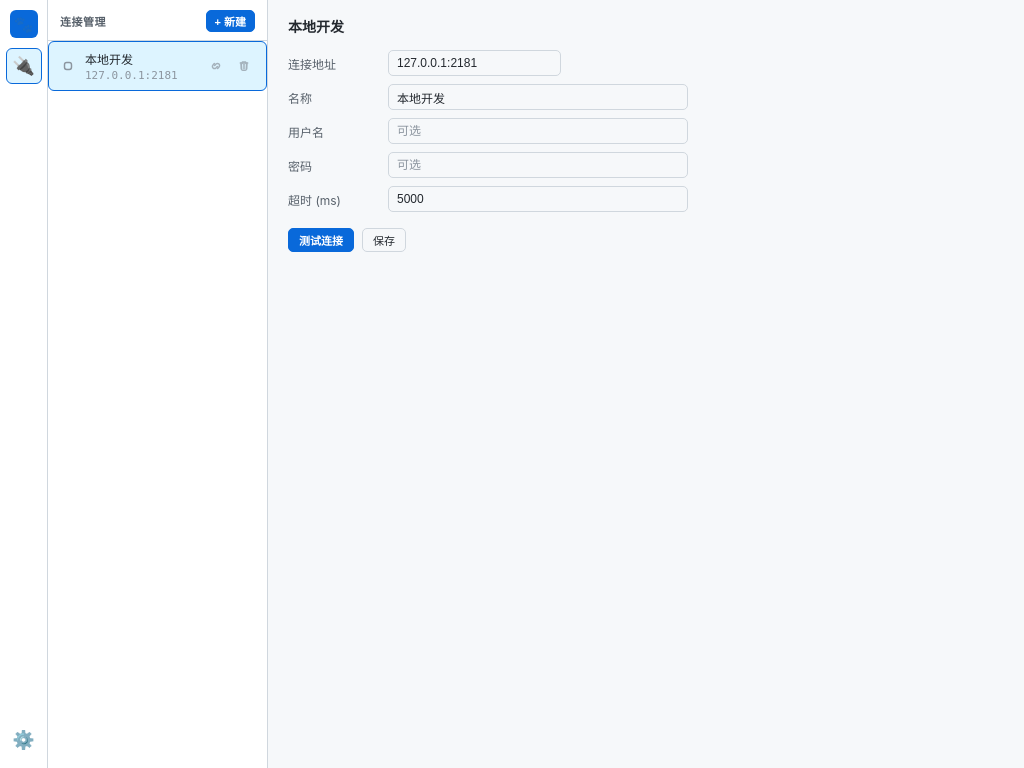
Scenario: opens the settings panel from the ribbon button with readonly selected by default
Click the button with class "ribbon-btn" showing "⚙️" at {"x": 24, "y": 740}, box [6, 722, 42, 758]
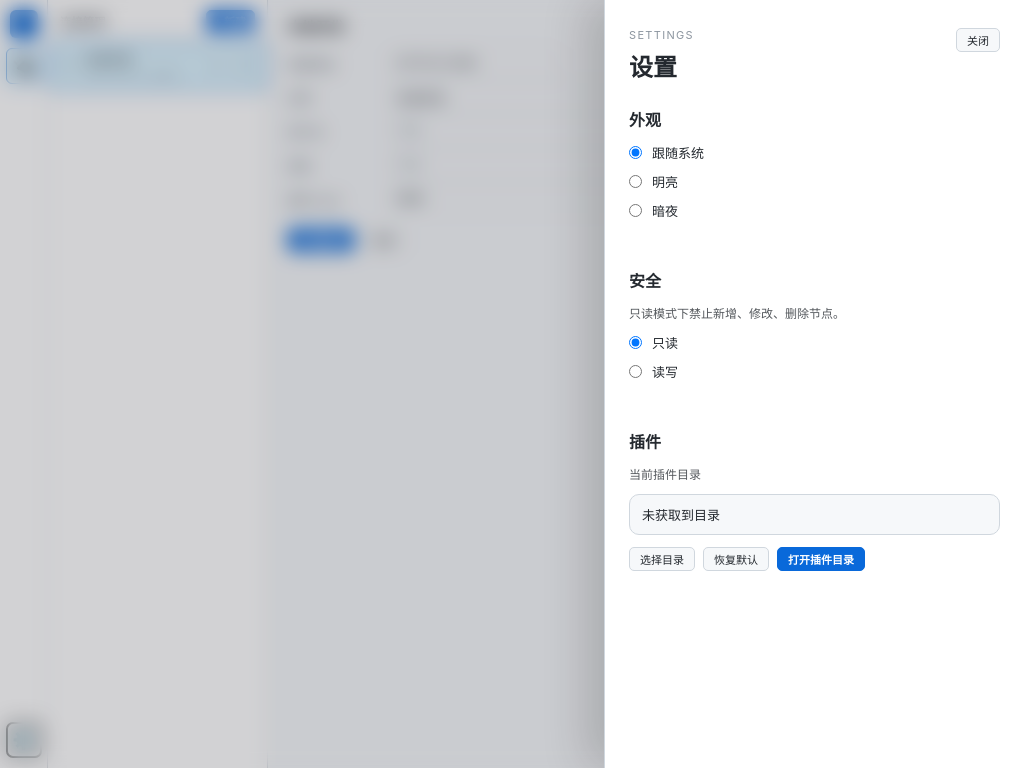
Check: the heading "外观" is shown, box [629, 110, 661, 130]
Check: the radio button labelled "只读" is checked, box [629, 336, 642, 349]
